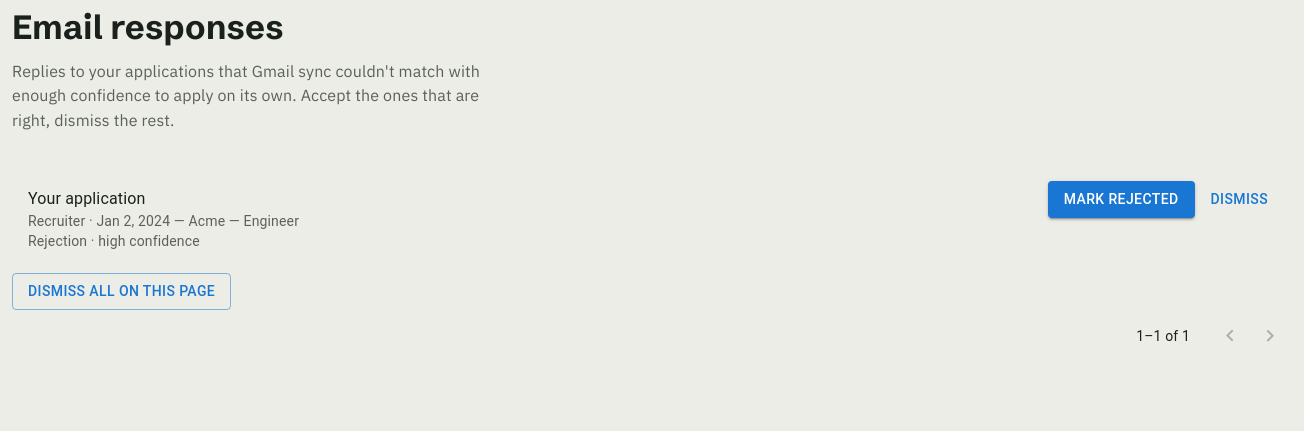
Test: EmailResponsesPage › reloads after a failed accept
Expected: the text "Your application" is shown, [28,189,146,208]
Click the button with aria-label "Mark Rejected: Your application".
click(1121, 199)  # box [1048,181,1194,218]
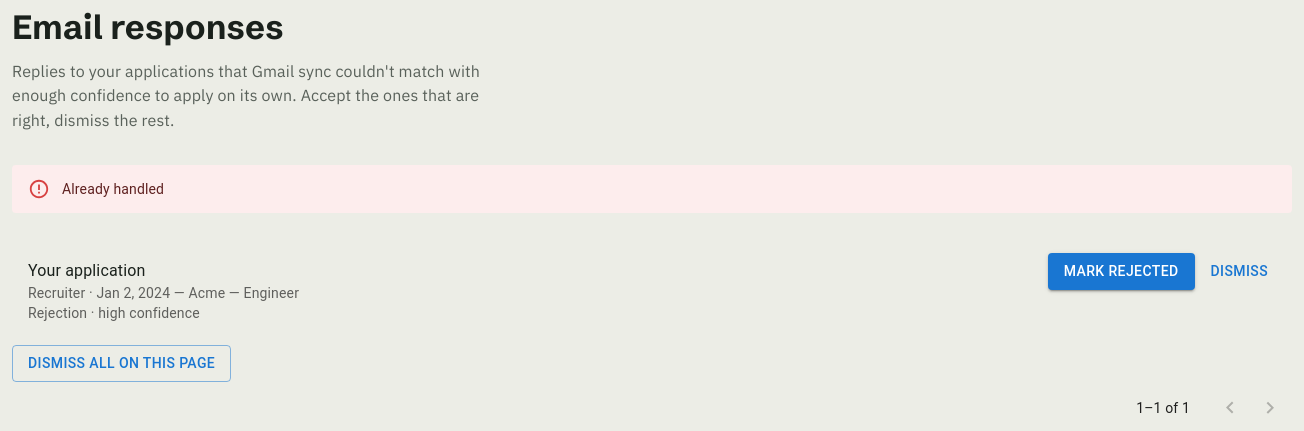
Expected: the text "Already handled" is shown, [62,181,164,197]
